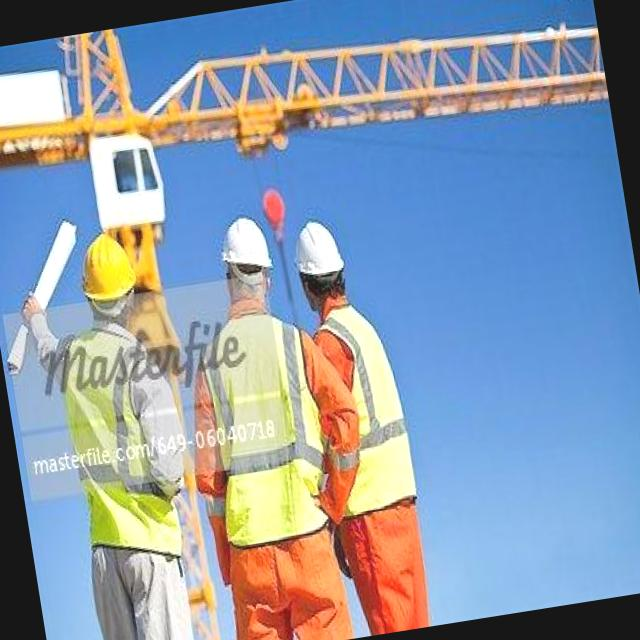helmet: (76, 234, 138, 302), (288, 214, 344, 282), (218, 214, 276, 276)
vest: (47, 317, 196, 574), (202, 319, 328, 543), (316, 304, 418, 522)
